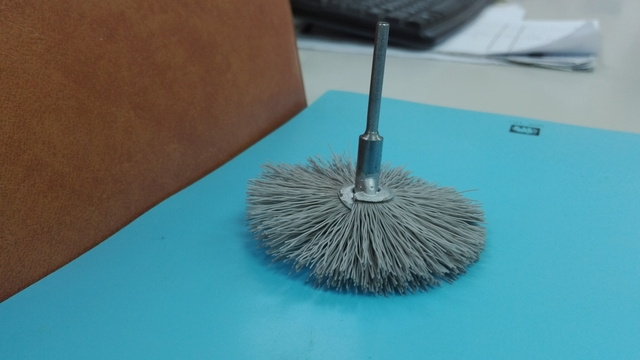TOOL: (209, 23, 526, 311)
